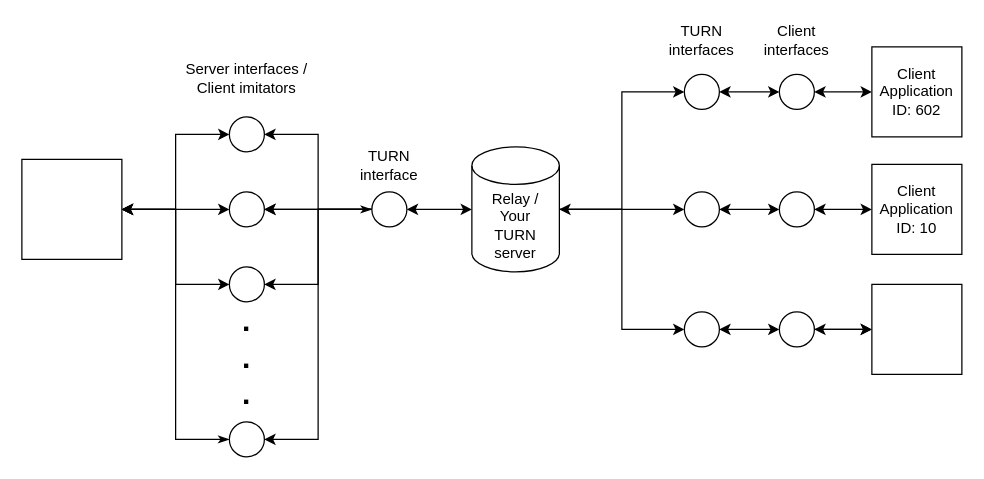
The diagram is 984 pixels wide and 479 high, and some of its shapes have lost their labels. The shapes that lost their labels are listed below. From the top down, each one's centre as x and y in pixels, then its label:
[71,208]: Server Application ID: 1
[916,328]: Client Application ID: 11250
